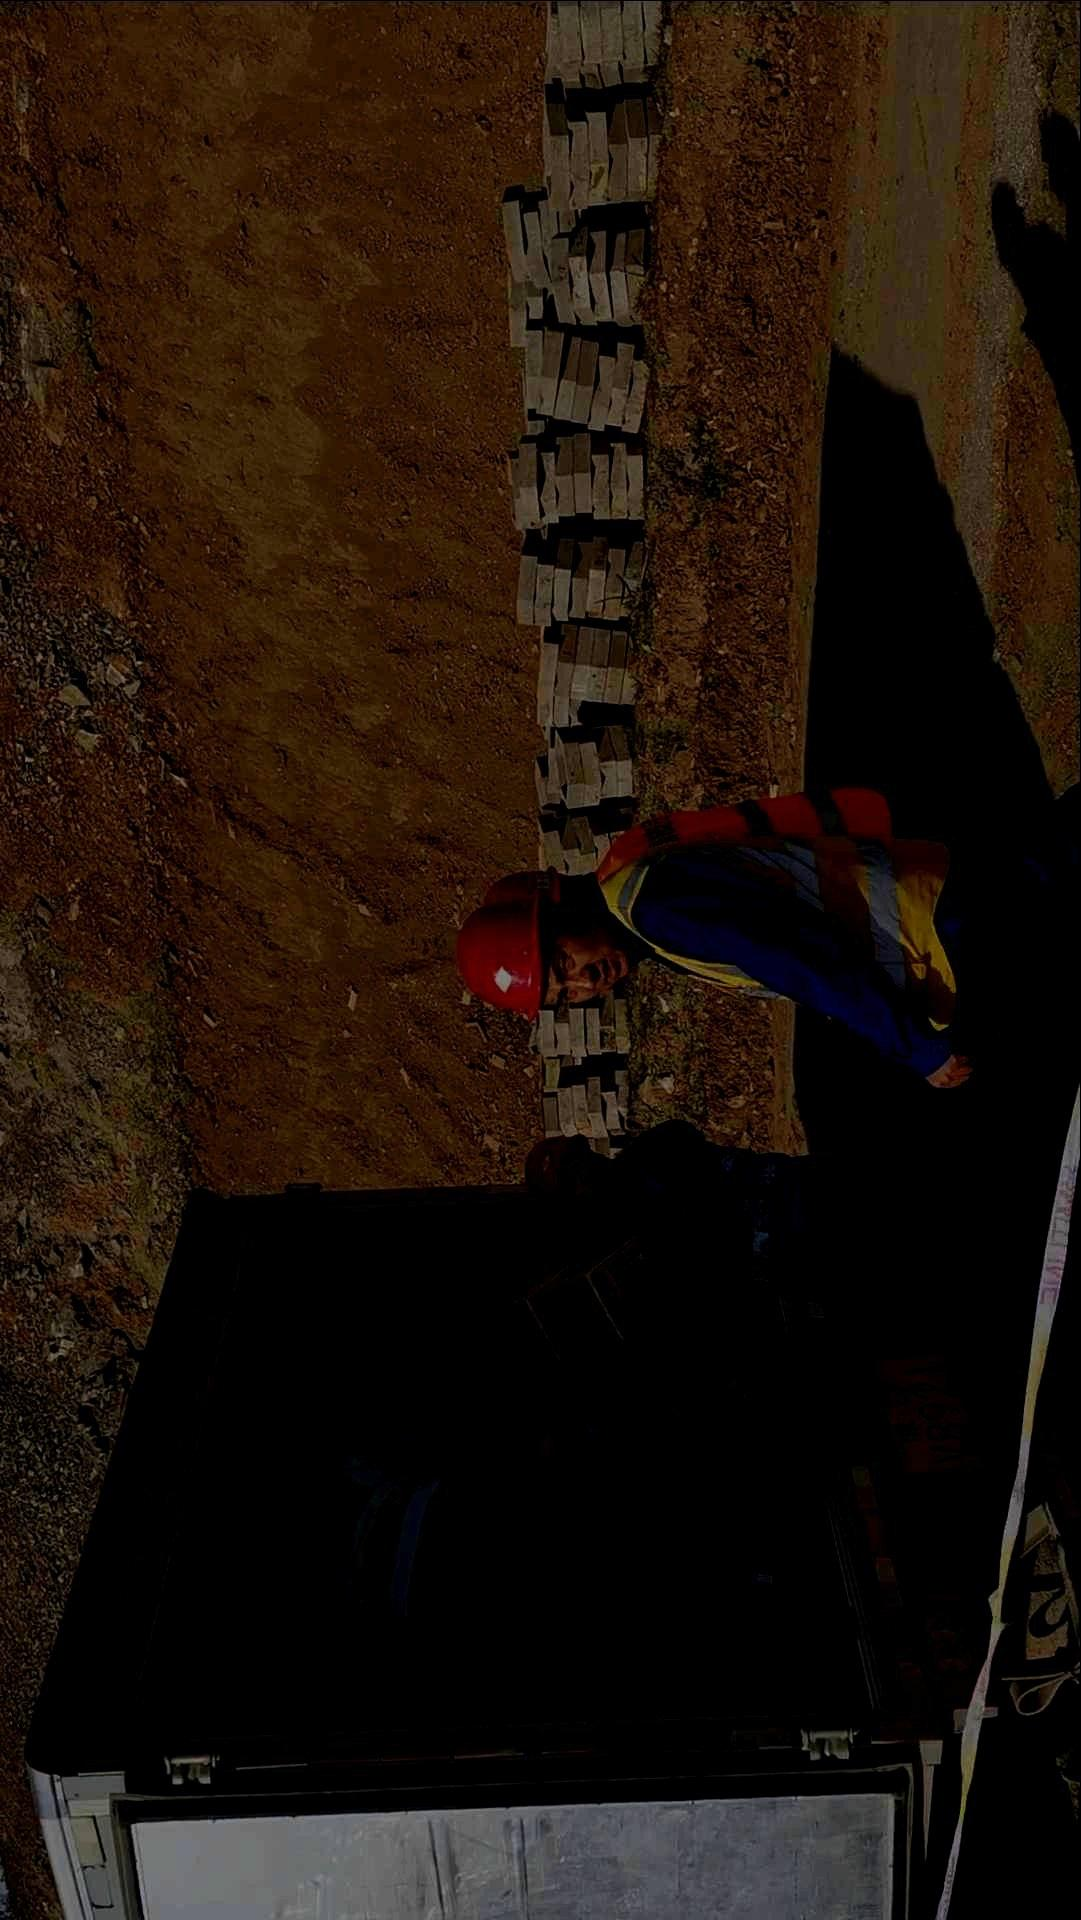helmet: (455, 891, 630, 1022), (525, 1133, 616, 1215), (481, 866, 584, 906)
